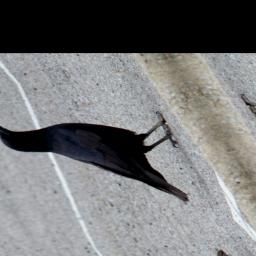Crow: (0, 91, 217, 229)
